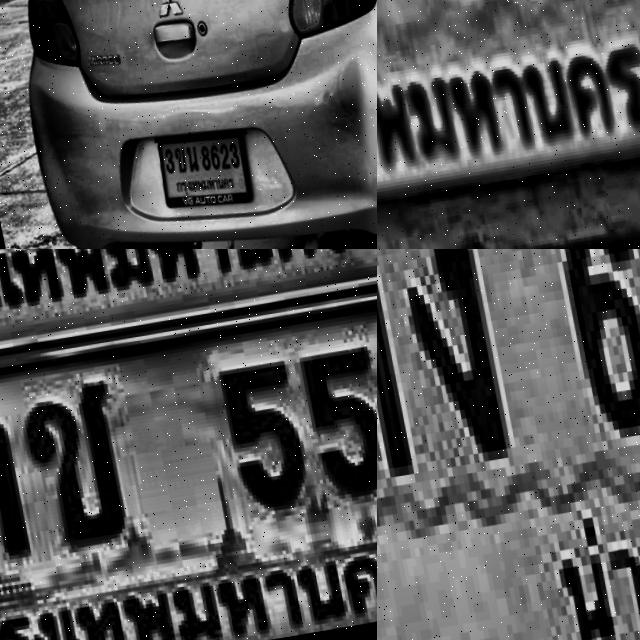license-plate: (0, 295, 377, 640), (377, 249, 640, 640), (377, 0, 640, 249), (0, 249, 377, 396), (148, 124, 251, 217)
